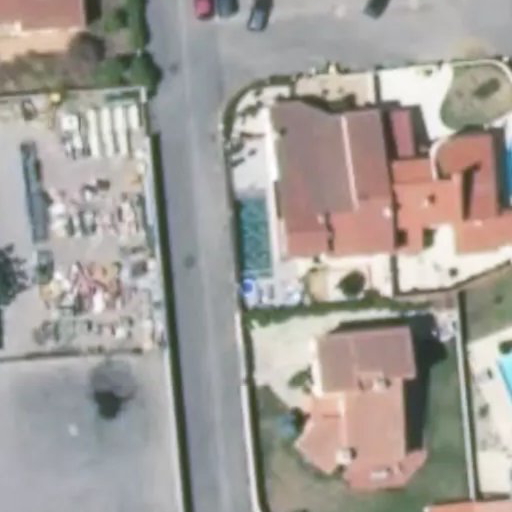pool: (230, 206, 281, 277)
